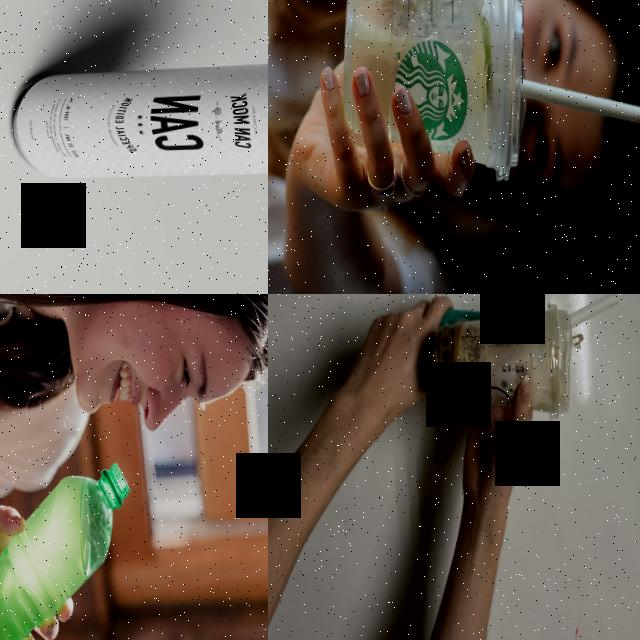bottle: (0, 460, 136, 640)
can: (0, 56, 268, 185)
cup: (335, 0, 529, 188), (430, 304, 573, 424)
